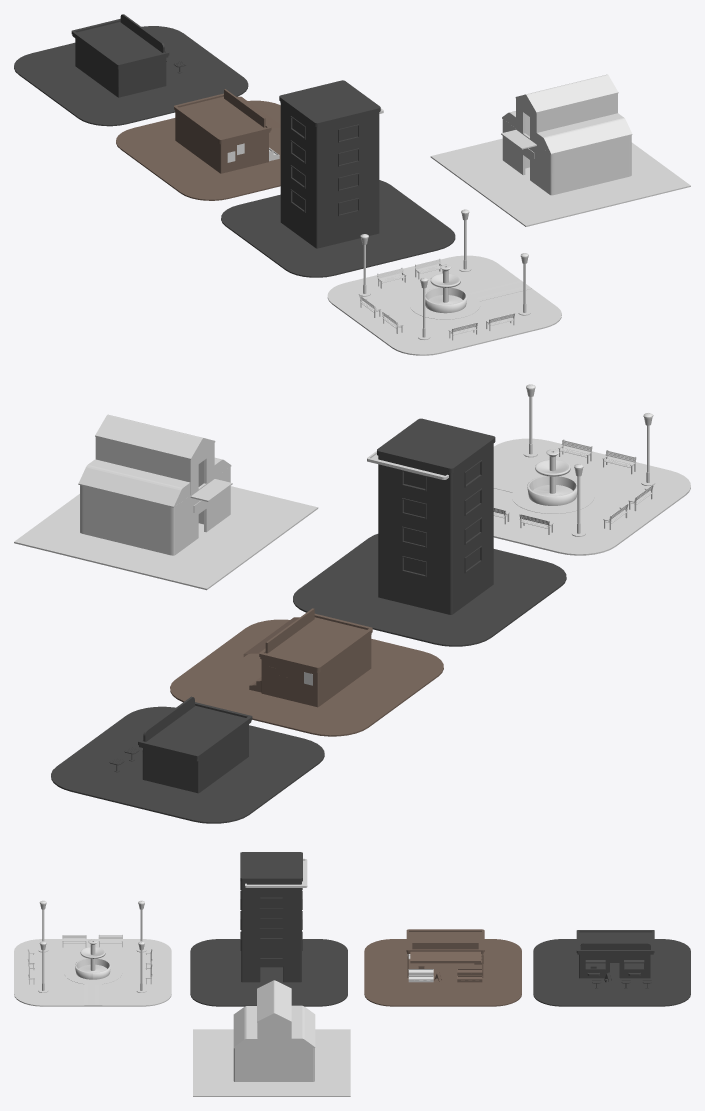
Rendered from cafehito2.fbx.
3 views of the same model, one above another, from view 1: azimuth 30°, elevation 25°; view 2: azimuth 150°, elevation 25°; view 3: azimuth 270°, elevation 25° (orthographic). The views are drawn at different scales.
Parts seen in each view (by area): view 1: Cube.008, banco.003, Cube.006, Cube.001, Cube.014, Cube.020, Cube.082, Cube.083; view 2: Cube.008, Cube.006, Cube.001, banco.003, Cube.014, Cube.020, Cube.027, Cube.083; view 3: Cube.008, Cube.006, banco.003, Cube.001, Cube.014, Cube.020, Cube.083, Cube.027, Cube.082.
Part boxes in pixels (x1,y1,x2,y2): Cube.008: (221, 80, 455, 277); banco.003: (327, 209, 561, 355); Cube.006: (14, 14, 248, 126); Cube.001: (116, 89, 280, 200); Cube.014: (430, 138, 690, 226); Cube.020: (502, 93, 631, 195); Cube.082: (536, 113, 632, 154); Cube.083: (515, 74, 618, 113); Cube.008: (293, 418, 566, 646); Cube.006: (51, 696, 324, 823); Cube.001: (170, 608, 443, 736); banco.003: (493, 384, 690, 555); Cube.014: (14, 486, 318, 590); Cube.020: (80, 437, 230, 555); Cube.027: (78, 459, 190, 507); Cube.083: (95, 414, 215, 459); Cube.008: (190, 852, 347, 1006); Cube.006: (533, 930, 690, 1006); banco.003: (14, 900, 171, 1006); Cube.001: (364, 929, 521, 1006); Cube.014: (193, 1029, 350, 1096); Cube.020: (233, 1022, 314, 1081); Cube.083: (257, 980, 291, 1022); Cube.027: (291, 1005, 315, 1047); Cube.082: (233, 1006, 257, 1048).
Size of the model in its own units: 10247 by 3198 by 18648.
